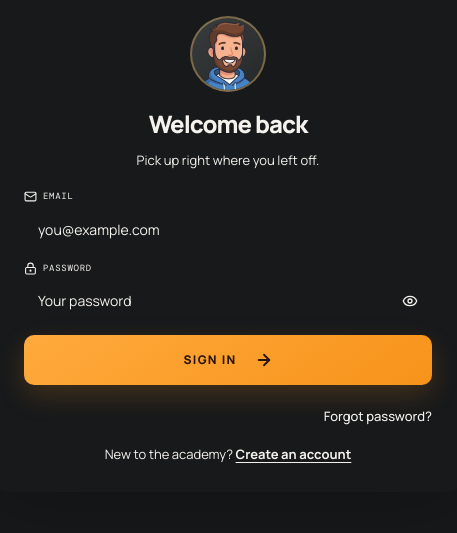
Test: login › recovers when the request itself throws (e.g. offline)
In the field with placeholder "you@example.com": (228, 229) [24,209,432,250], type "learner@example.com"
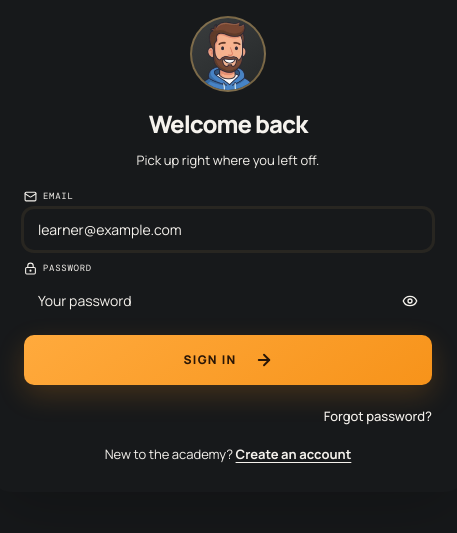
In the password field with placeholder "Your password": (228, 301) [24,280,432,321], type "hunter22"
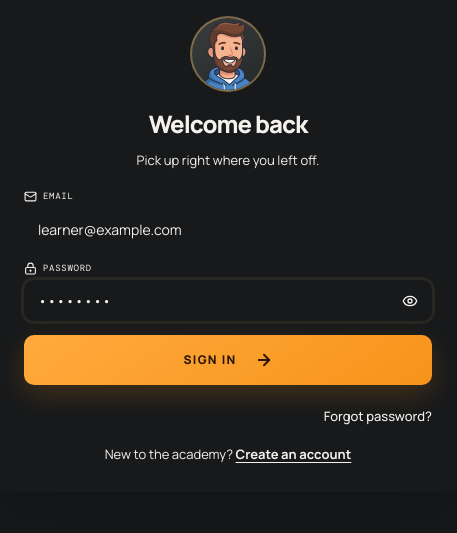
Click the button "Sign in": (228, 360) [24,335,432,385]
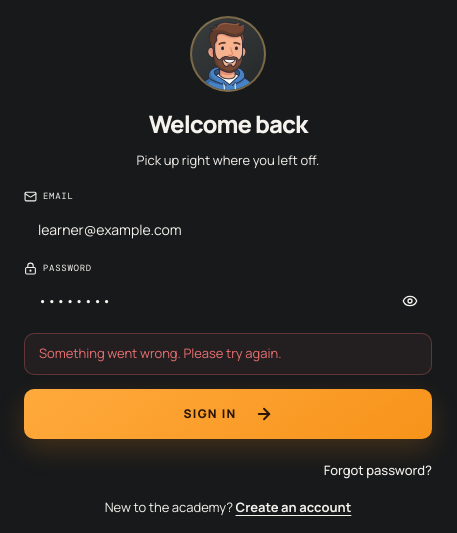
Expected: the button "Sign in" is enabled, [24,389,432,439]
Result: the text "Something went wrong. Please try again." is shown at [24,333,432,375]
